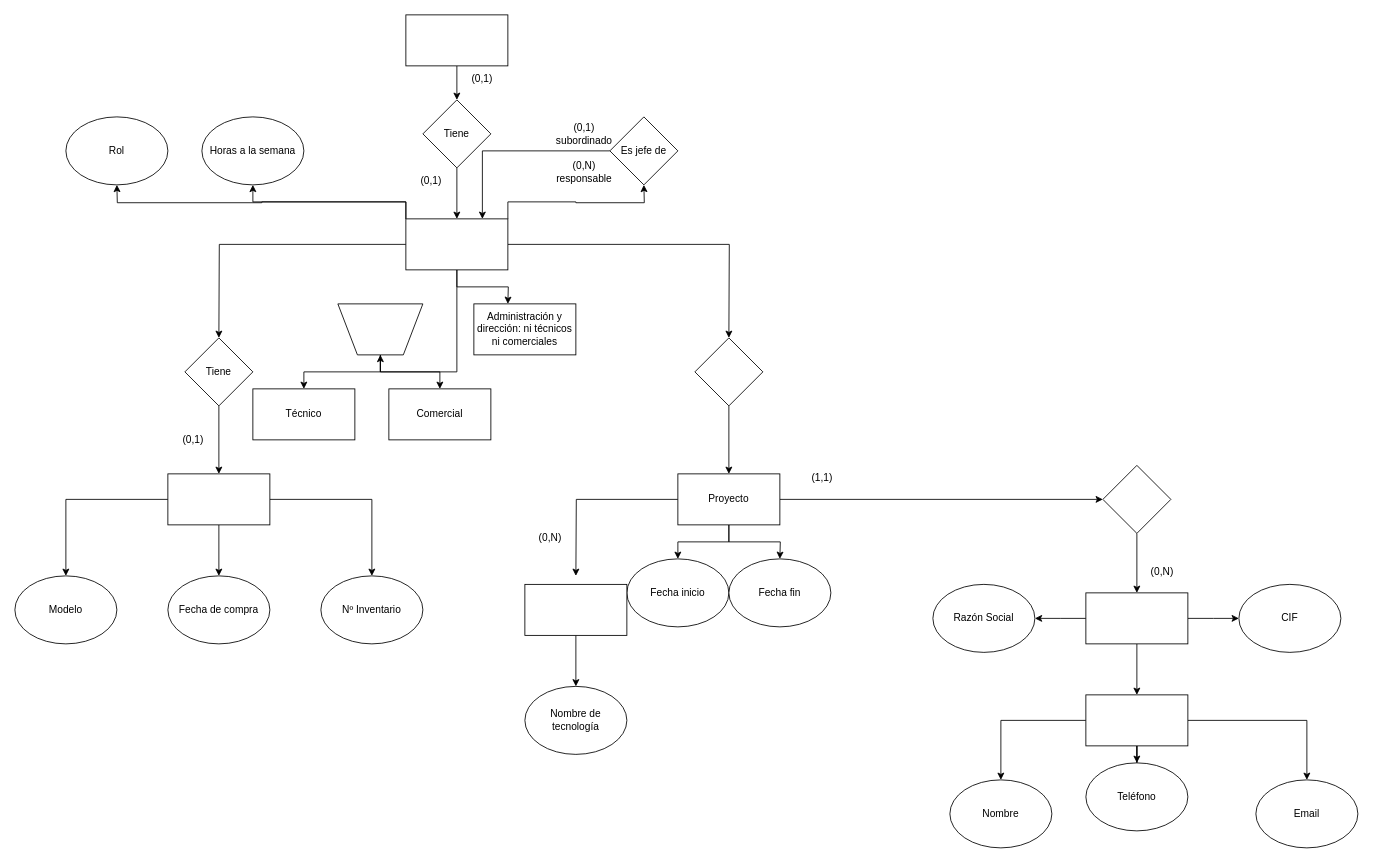
The diagram is 1373 pixels wide and 863 high, and some of its shapes have lost their labels. The centre of each missing label's shape, as x and y in pixels:
Cliente: (x=1136, y=618)
Departamento: (x=456, y=40)
Empleado: (x=456, y=244)
Es un parcial, exclusiva: (x=380, y=329)
Para: (x=1136, y=499)
Persona de contacto: (x=1136, y=720)
Portátil: (x=218, y=499)
Tecnología: (x=575, y=609)
Trabaja en: (x=728, y=371)
